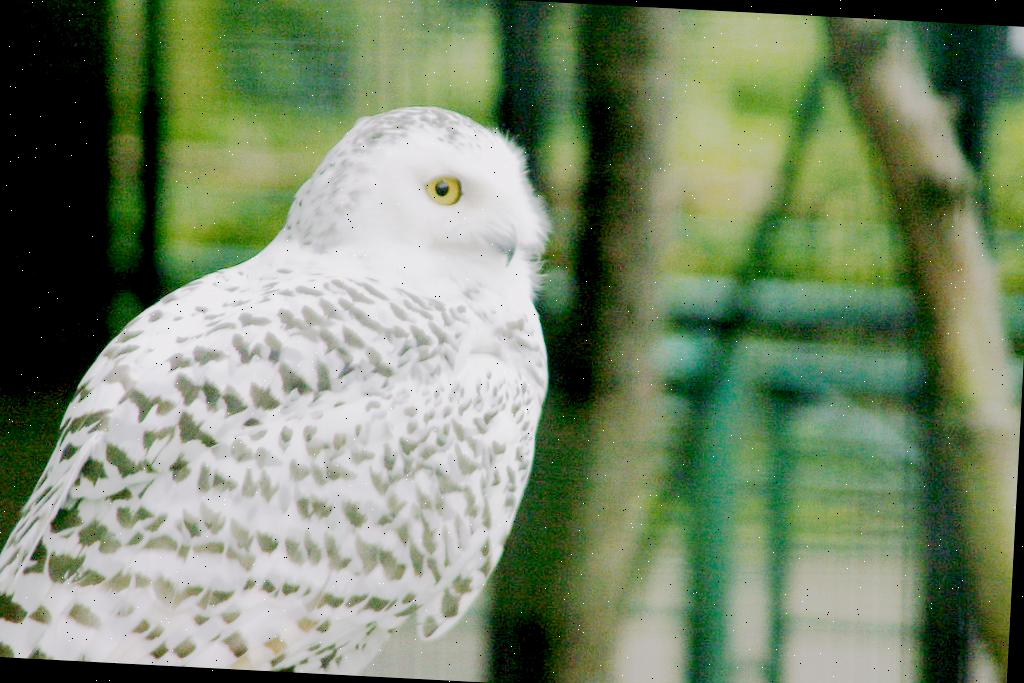Owl: (0, 82, 565, 683)
